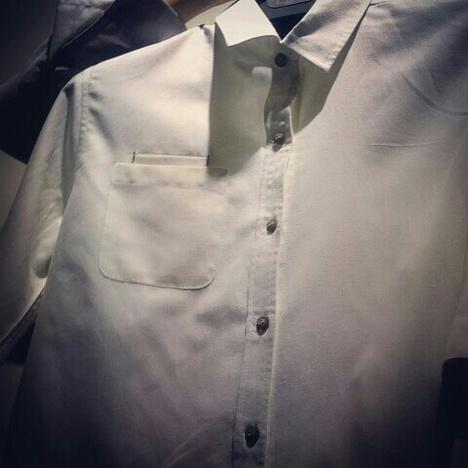C_shirt: (3, 1, 468, 467)
